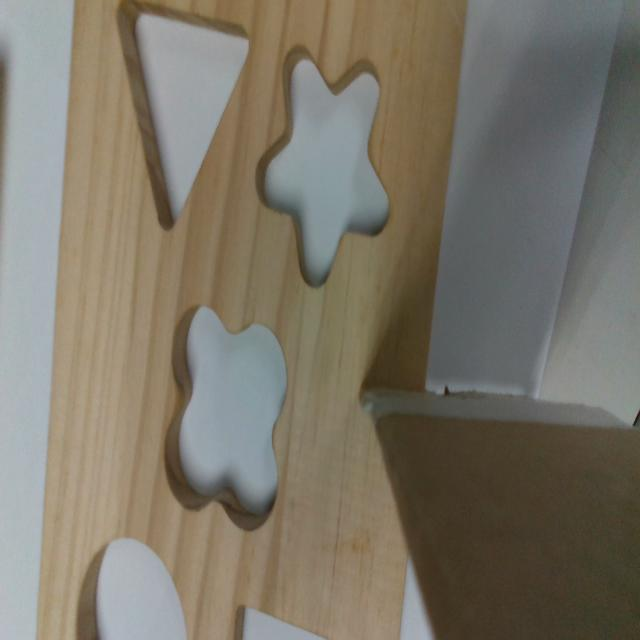circle: (77, 536, 186, 635)
flower: (165, 308, 286, 531)
star: (254, 45, 392, 288)
triangle: (116, 3, 252, 234)
